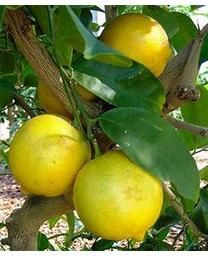lemon: (75, 150, 165, 238), (8, 115, 92, 198), (103, 14, 170, 77)
